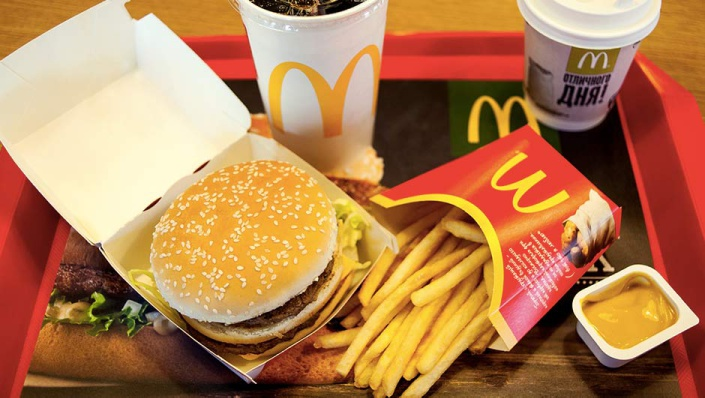mcdonalds: (491, 150, 567, 236), (574, 44, 614, 73)
